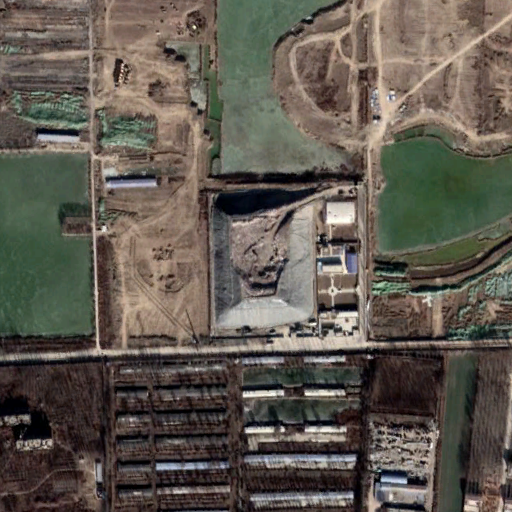lf: (214, 190, 318, 333)
